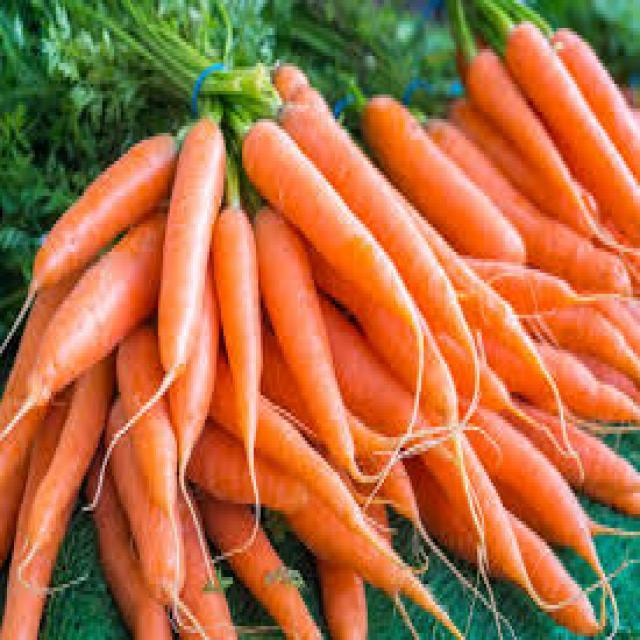carrot: (239, 119, 441, 354), (15, 129, 185, 317), (145, 110, 227, 416), (211, 191, 263, 492)
